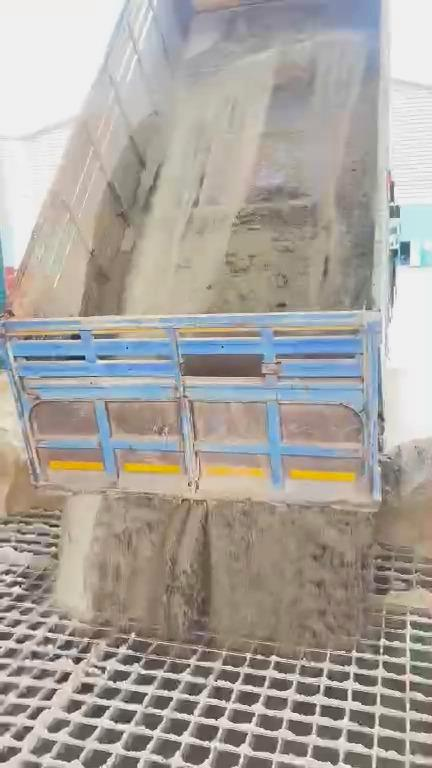sand: (83, 0, 379, 314), (57, 495, 370, 652), (1, 371, 63, 515), (6, 662, 88, 767), (376, 438, 432, 558), (370, 587, 432, 616), (1, 545, 55, 572)
